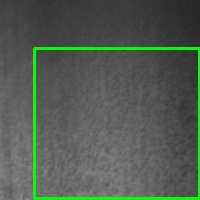pitted_surface: (34, 48, 199, 198)
